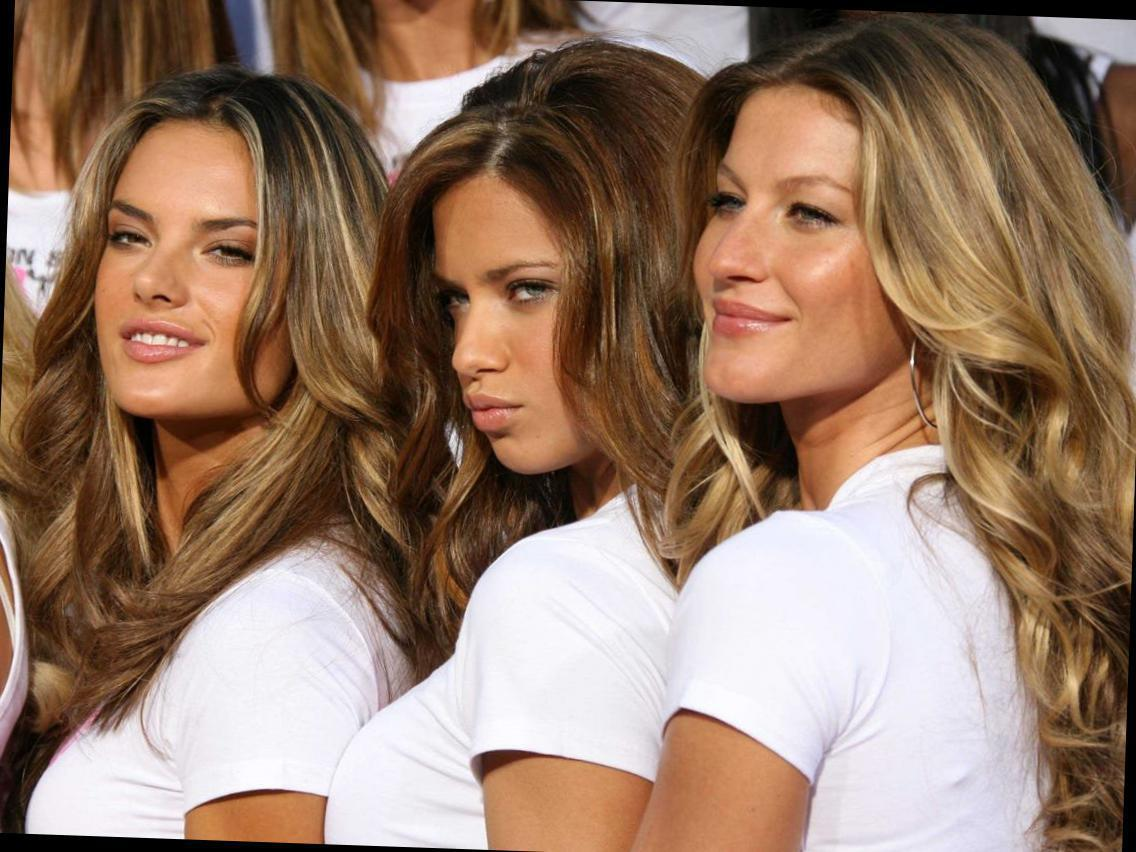Sober: (687, 104, 866, 390), (421, 190, 593, 461), (91, 148, 267, 403)
